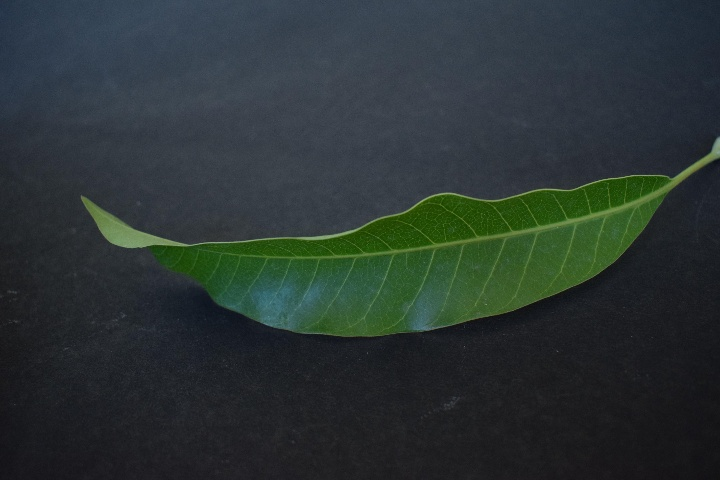healthy: (83, 166, 698, 342)
